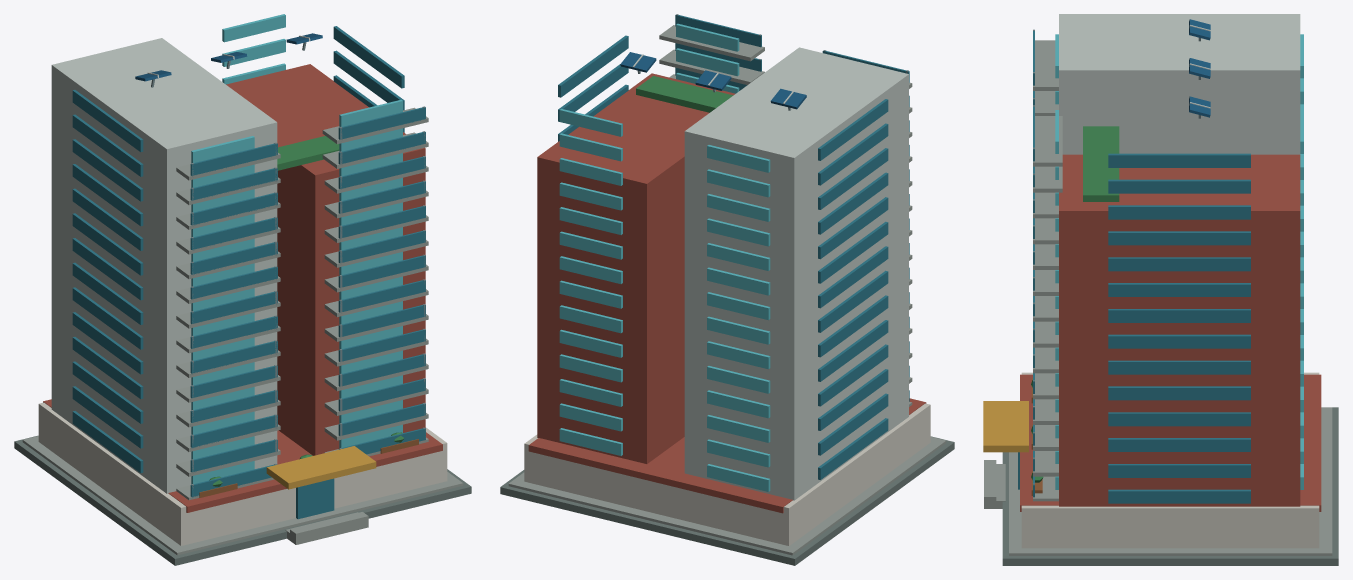
Rendered from apartment_lv4.glb.
3 views of the same model, side by side, from view 1: azimuth 30°, elevation 25°; view 2: azimuth 150°, elevation 25°; view 3: azimuth 270°, elevation 25° (orthographic). The views are drawn at different scales.
Parts seen in each view (by area): view 1: rough, glossy, metallic; view 2: rough, glossy, metallic; view 3: rough, glossy, metallic.
Boxes of the visible parts, x1,y1,x2,y2 form: rough: (14, 35, 471, 565); glossy: (72, 14, 425, 519); metallic: (135, 33, 425, 497); rough: (500, 25, 954, 565); glossy: (558, 15, 909, 491); metallic: (620, 14, 908, 110); rough: (983, 14, 1338, 565); glossy: (1018, 31, 1303, 503); metallic: (1033, 19, 1210, 484).
Size of the model in its own units: 9.8 by 12.88 by 9.73.
